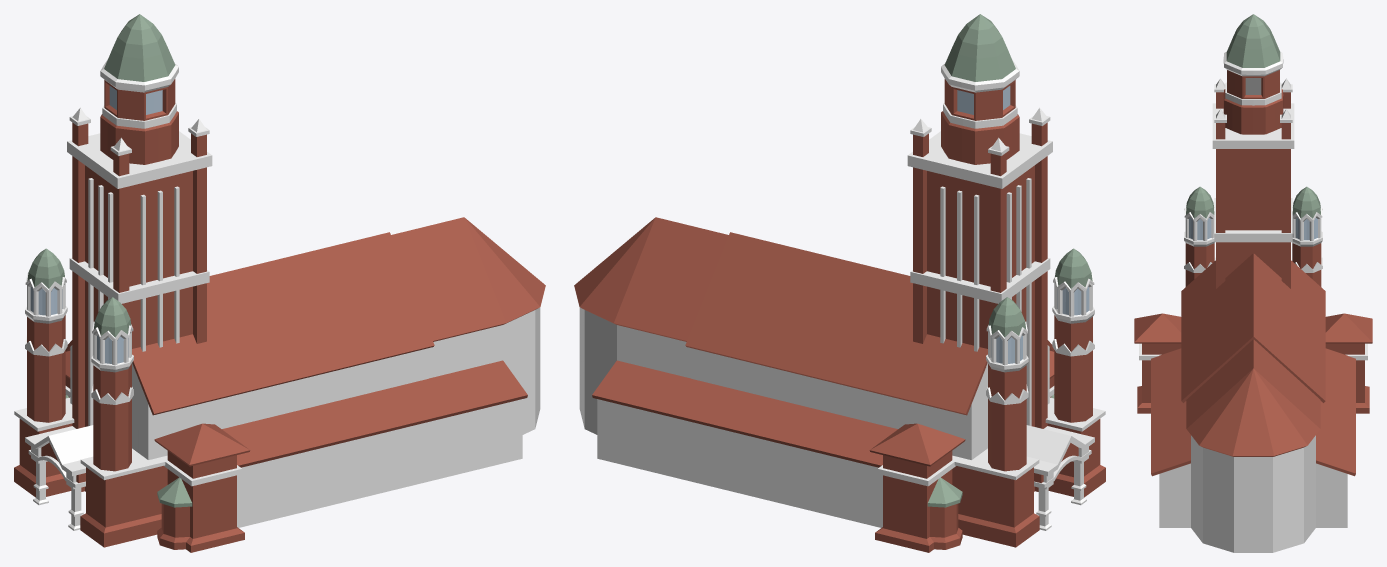
The model's file is Cathedral.fbx.
The picture shows the model from 3 angles, left to right: view 1: azimuth 30°, elevation 25°; view 2: azimuth 150°, elevation 25°; view 3: azimuth 270°, elevation 25°; orthographic projection. The views are drawn at different scales.
Visible parts, largest first — view 1: mesh_cathedral; view 2: mesh_cathedral; view 3: mesh_cathedral.
Boxes of the visible parts, x1,y1,x2,y2 form: mesh_cathedral: [14, 14, 545, 552]; mesh_cathedral: [574, 14, 1105, 552]; mesh_cathedral: [1134, 14, 1372, 552].
Size of the model in its own units: 28.67 by 27.2 by 15.2.
